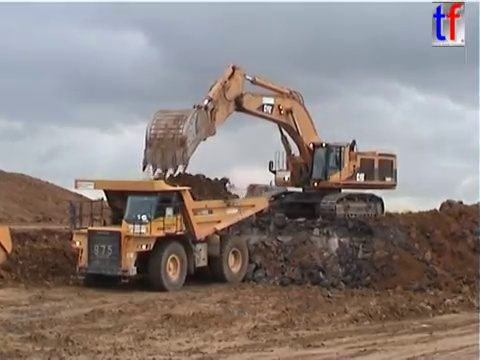excavator: (139, 60, 400, 228)
truck: (64, 176, 270, 293), (182, 178, 291, 224), (1, 222, 14, 267)
